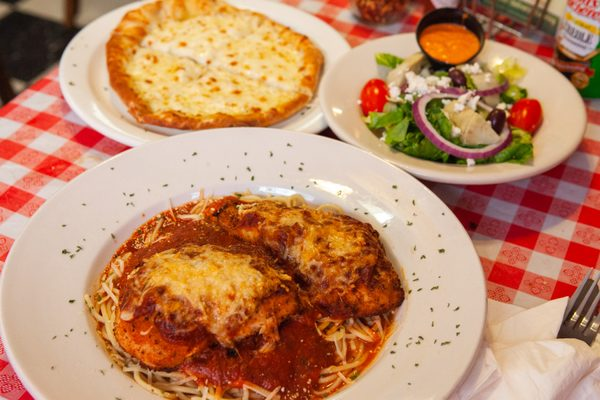sushi: (320, 18, 589, 188), (415, 6, 487, 68)
